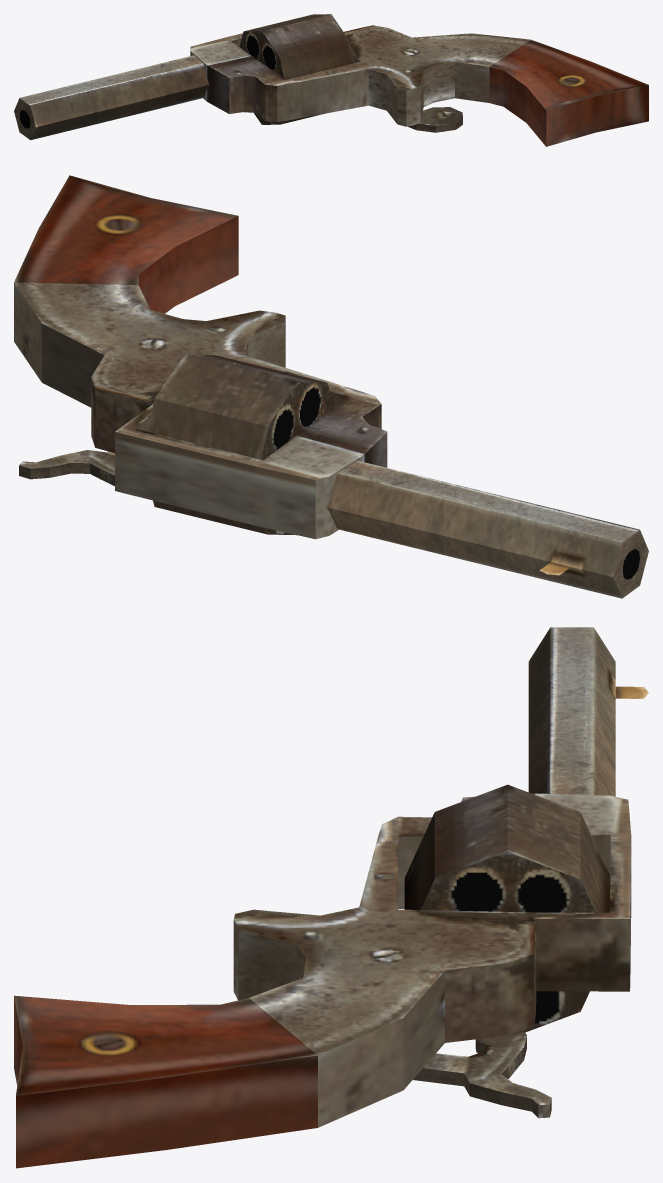
Rendered from Revolver.fbx.
3 views of the same model, one above another, from view 1: azimuth 30°, elevation 25°; view 2: azimuth 150°, elevation 25°; view 3: azimuth 270°, elevation 25° (orthographic). The views are drawn at different scales.
Parts seen in each view (by area): view 1: CW_Allen_Wheelockx, cylinder, hammer; view 2: CW_Allen_Wheelockx, cylinder, hammer; view 3: CW_Allen_Wheelockx, cylinder, hammer.
Boxes of the visible parts, bbox=[...] form: CW_Allen_Wheelockx: bbox=[14, 25, 648, 146]; cylinder: bbox=[239, 14, 353, 124]; hammer: bbox=[408, 107, 462, 132]; CW_Allen_Wheelockx: bbox=[14, 175, 648, 598]; cylinder: bbox=[148, 354, 333, 535]; hammer: bbox=[19, 450, 114, 485]; CW_Allen_Wheelockx: bbox=[14, 627, 648, 1168]; cylinder: bbox=[404, 784, 610, 1032]; hammer: bbox=[413, 1030, 551, 1118].
Bounding box in the file's own units: 1392 × 258 × 794.
